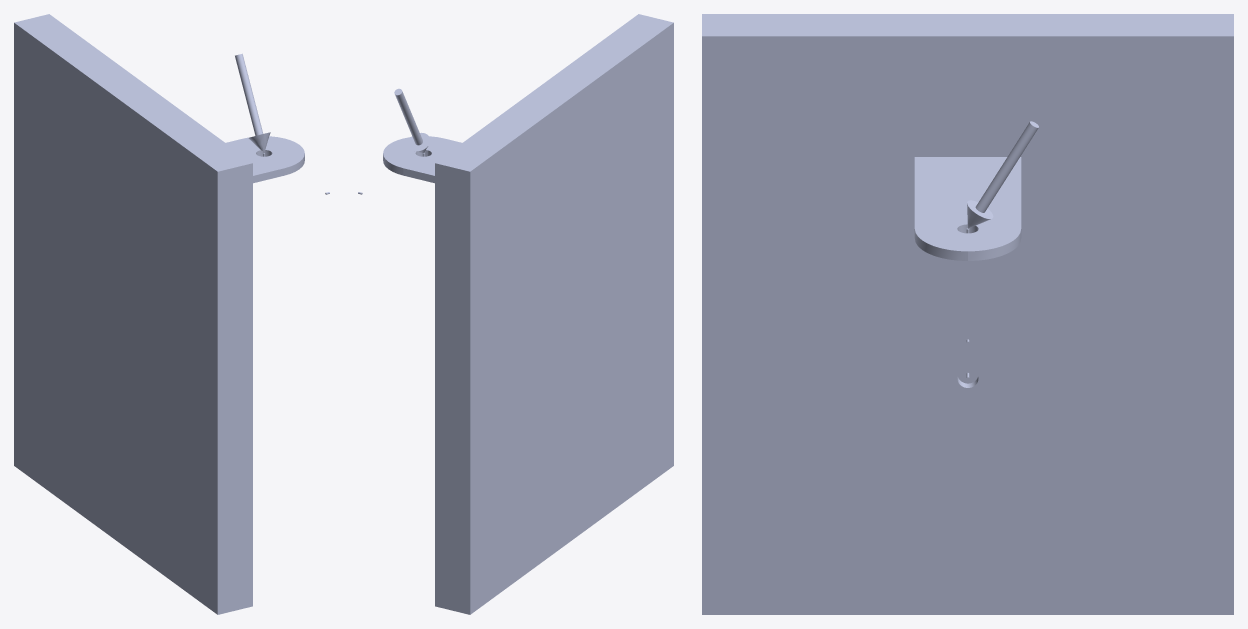
3 renders of one model, left to right at view 1: azimuth 30°, elevation 25°; view 2: azimuth 150°, elevation 25°; view 3: azimuth 270°, elevation 25°, orthographic. The views are drawn at different scales.
Parts seen in each view (by area): view 1: Part 1, Part 3, Part 6; view 2: Part 1, Part 3, Part 6; view 3: Part 1, Part 3, Part 6.
Boxes of the visible parts, x1,y1,x2,y2 form: Part 1: (14, 14, 252, 614); Part 3: (226, 136, 304, 183); Part 6: (235, 53, 270, 152); Part 1: (435, 14, 673, 614); Part 3: (383, 136, 461, 183); Part 6: (394, 88, 430, 153); Part 1: (702, 14, 1233, 614); Part 3: (914, 157, 1021, 426); Part 6: (967, 121, 1038, 228).
Bounding box in the file's own units: 0.0605 × 0.12 × 0.1.
